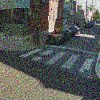crosswalk: (19, 47, 94, 74)
